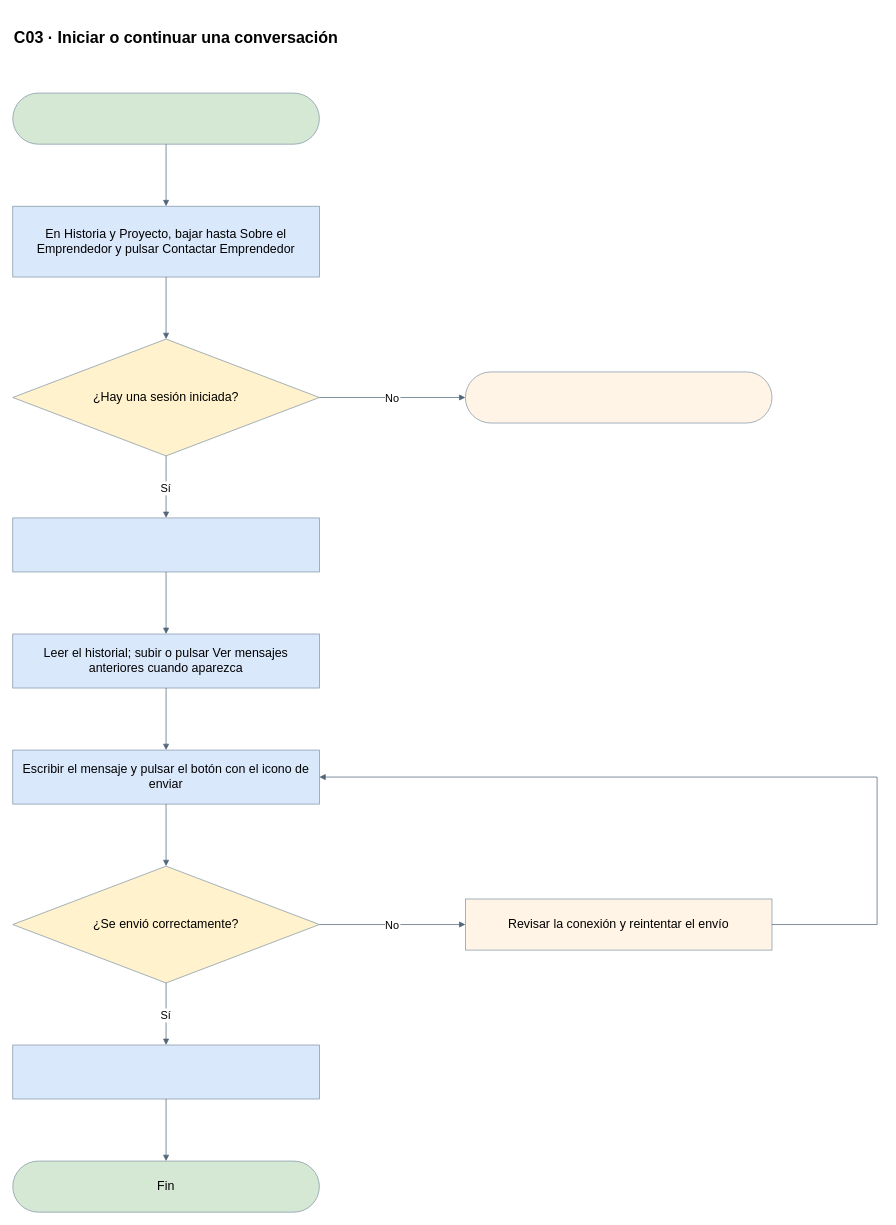
Some shapes in this 896 by 1225 pixel diagram are drawn without their labels. Here are the shapes that lost their labels. From the top down, the centre of each, then its label:
(165,118): Inicio
(618,397): Iniciar sesión y volver a la campaña
(165,544): Abrir o recuperar la conversación; también se puede elegir una en Mensajes
(165,1071): Leer la respuesta; seguir conversando o seleccionar otra conversación
